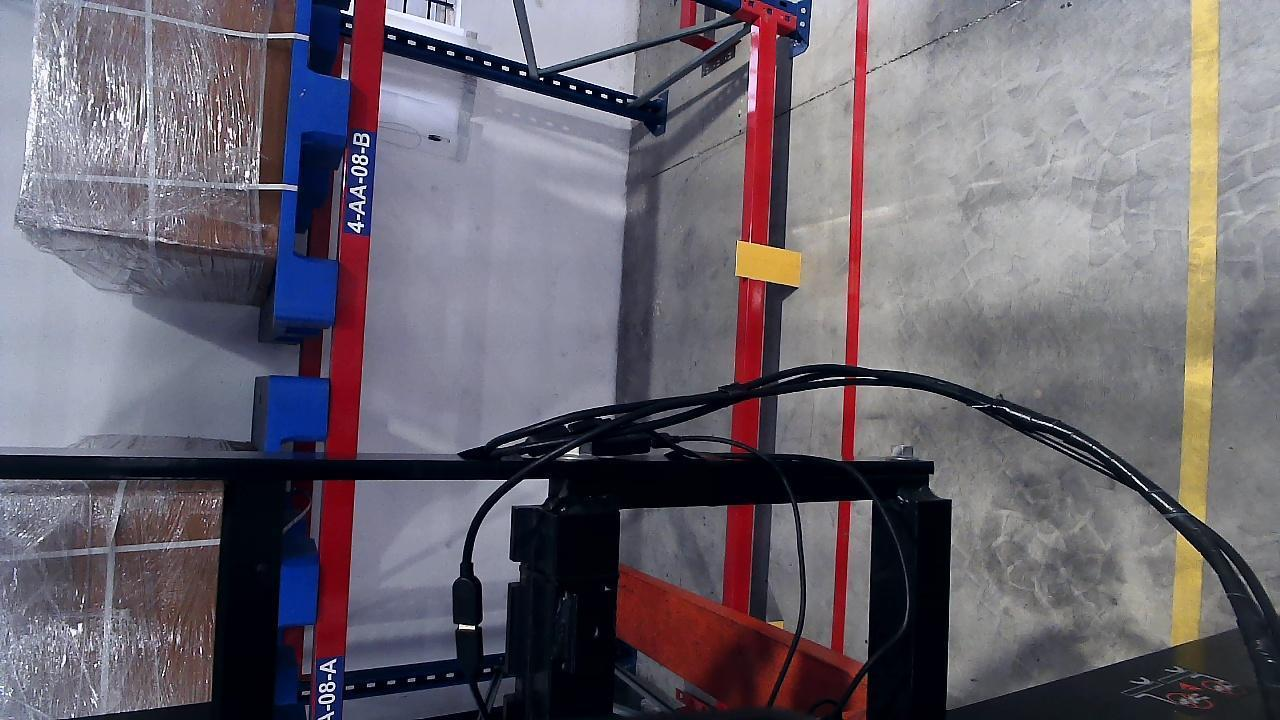red_line: (840, 2, 869, 456)
yellow_line: (1172, 2, 1222, 645)
